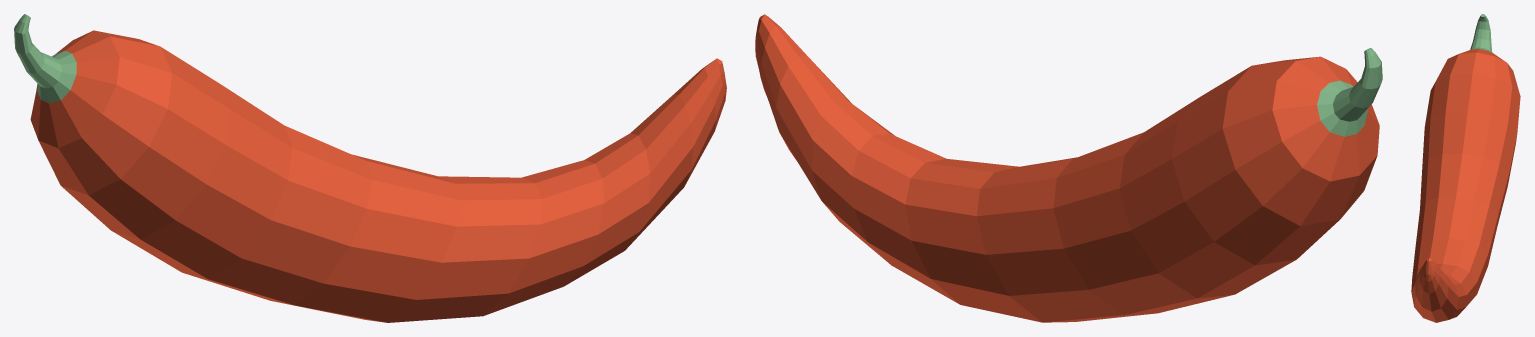
Rendered from chili.fbx.
3 renders of one model, left to right at view 1: azimuth 30°, elevation 25°; view 2: azimuth 150°, elevation 25°; view 3: azimuth 270°, elevation 25°, orthographic. The views are drawn at different scales.
Visible parts, largest first — view 1: chili; view 2: chili; view 3: chili.
Boxes of the visible parts, x1,y1,x2,y2 form: chili: [14, 14, 726, 322]; chili: [755, 14, 1382, 322]; chili: [1411, 14, 1520, 322].
Size of the model in its own units: 89.29 by 48.37 by 24.92.
